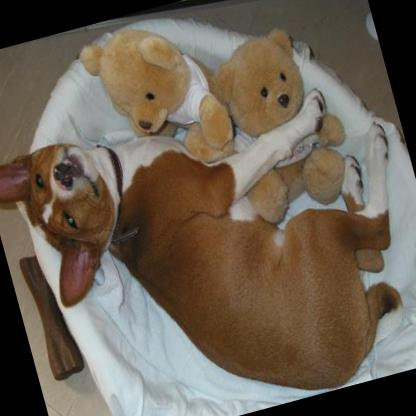basenji: (0, 59, 416, 416)
